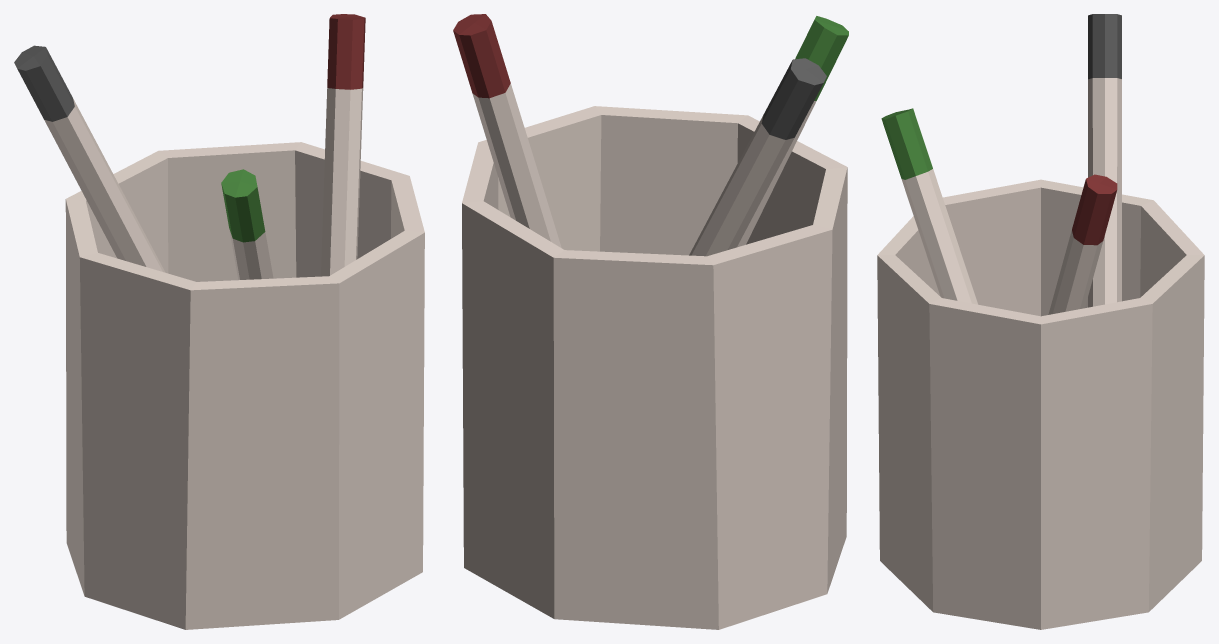
Rendered from Pens_3.fbx.
The picture shows the model from 3 angles, left to right: view 1: azimuth 30°, elevation 25°; view 2: azimuth 150°, elevation 25°; view 3: azimuth 270°, elevation 25°; orthographic projection. The views are drawn at different scales.
Visible parts, largest first — view 1: Pens_3; view 2: Pens_3; view 3: Pens_3.
Boxes of the visible parts, x1=… form: Pens_3: x1=14, y1=14, x2=424, y2=629; Pens_3: x1=453, y1=14, x2=848, y2=629; Pens_3: x1=877, y1=14, x2=1204, y2=629.
Size of the model in its own units: 14.74 by 12.95 by 20.92.
